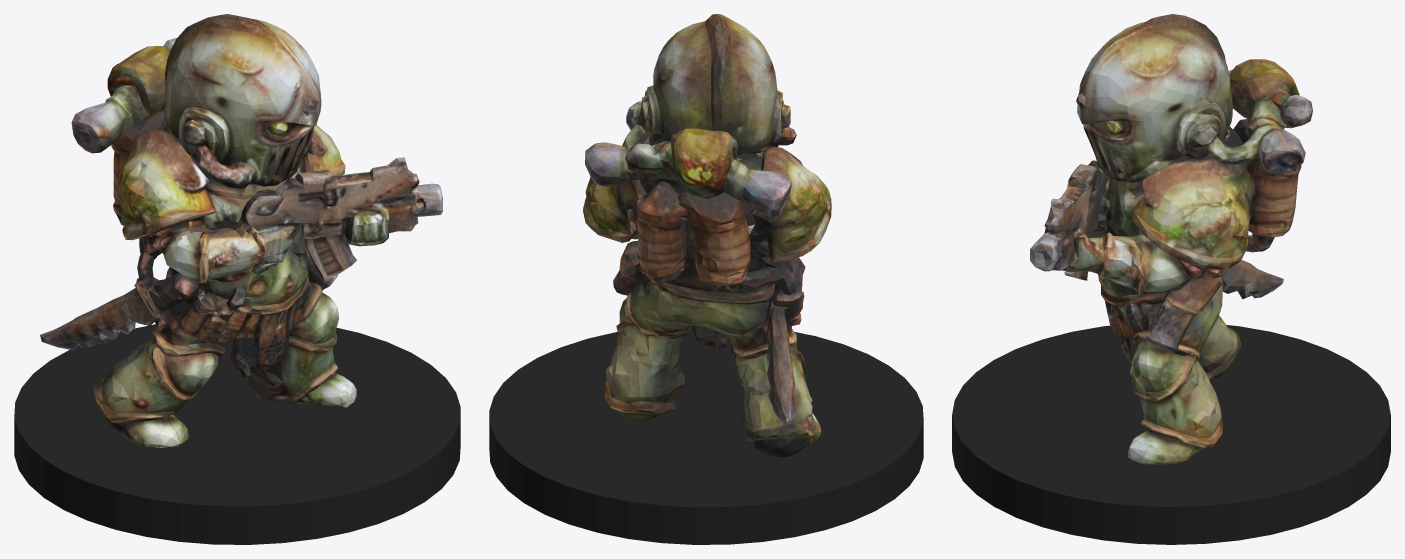
The model's file is pm-plague-marine-warrior-b.glb.
3 views of the same model, side by side, from view 1: azimuth 30°, elevation 25°; view 2: azimuth 150°, elevation 25°; view 3: azimuth 270°, elevation 25° (orthographic). The views are drawn at different scales.
Visible parts, largest first — view 1: figure, base; view 2: figure, base; view 3: figure, base.
Boxes of the visible parts, <box> form: figure: <box>40,14,442,447</box>; base: <box>14,324,460,544</box>; figure: <box>583,14,831,457</box>; base: <box>489,326,923,544</box>; figure: <box>1030,14,1312,464</box>; base: <box>952,325,1390,544</box>.
Size of the model in its own units: 1.26 by 1.37 by 1.26.
Materials: 2 (1 with a texture image).
